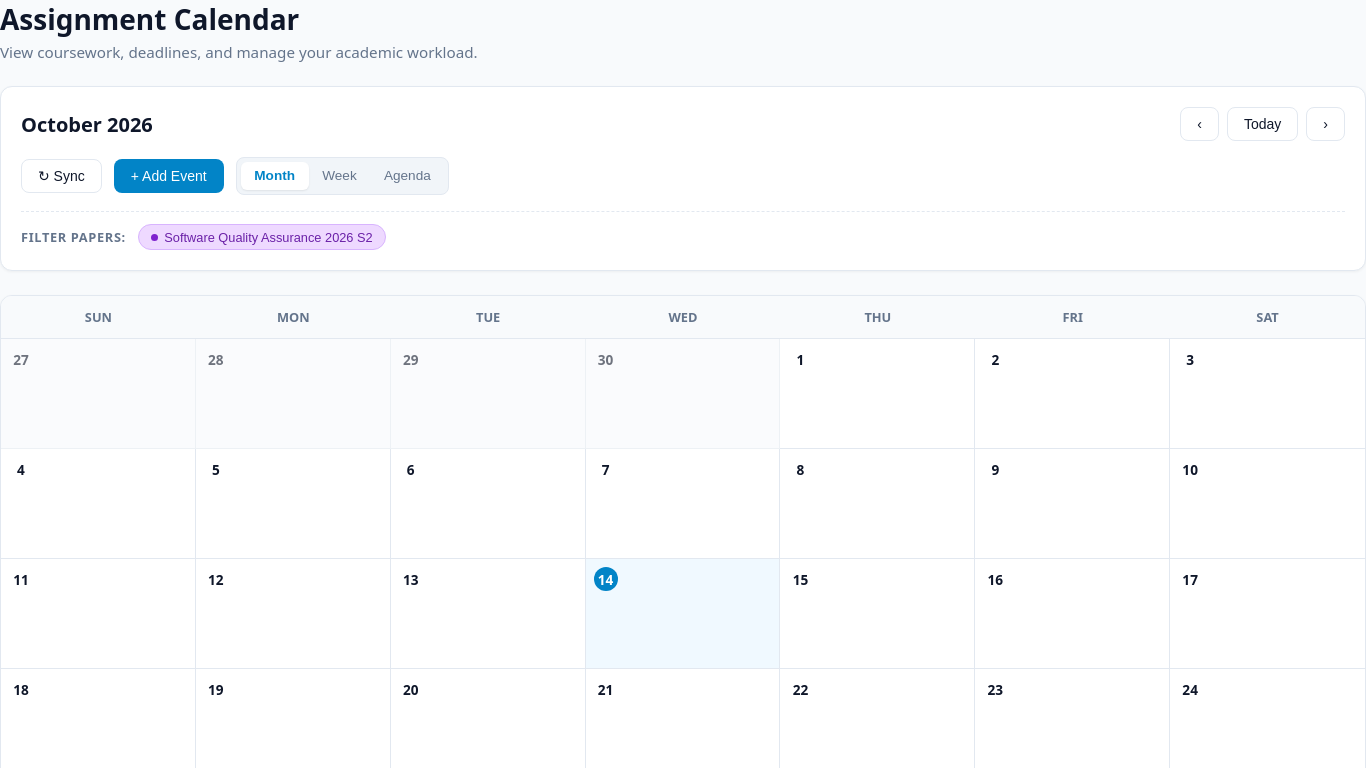
Test: Calendar - views (FR-04) › TC-12: opens the assignment detail modal with Canvas details when an event is clicked
Click the button "Agenda": (407, 176) x1=370 y1=162 x2=444 y2=190
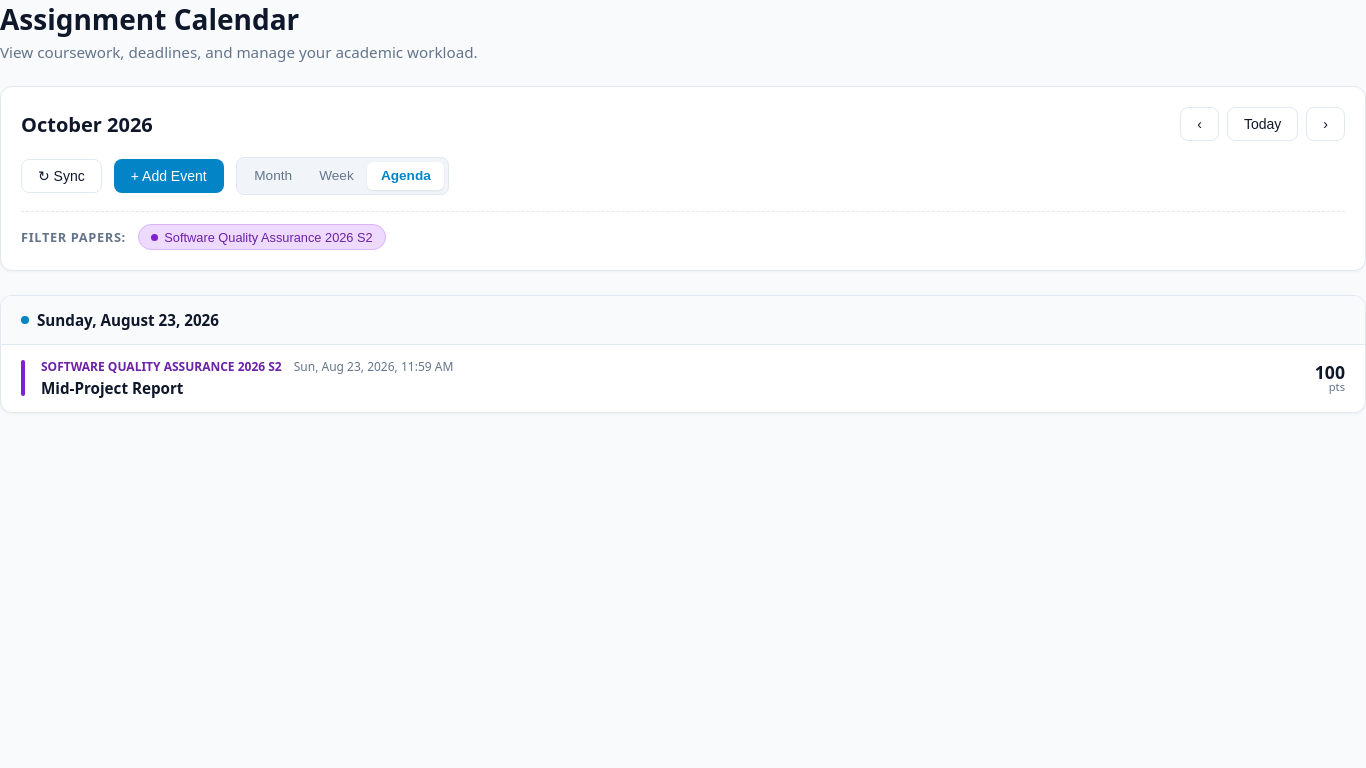
Click the heading "Mid-Project Report": (112, 388) x1=41 y1=378 x2=184 y2=398
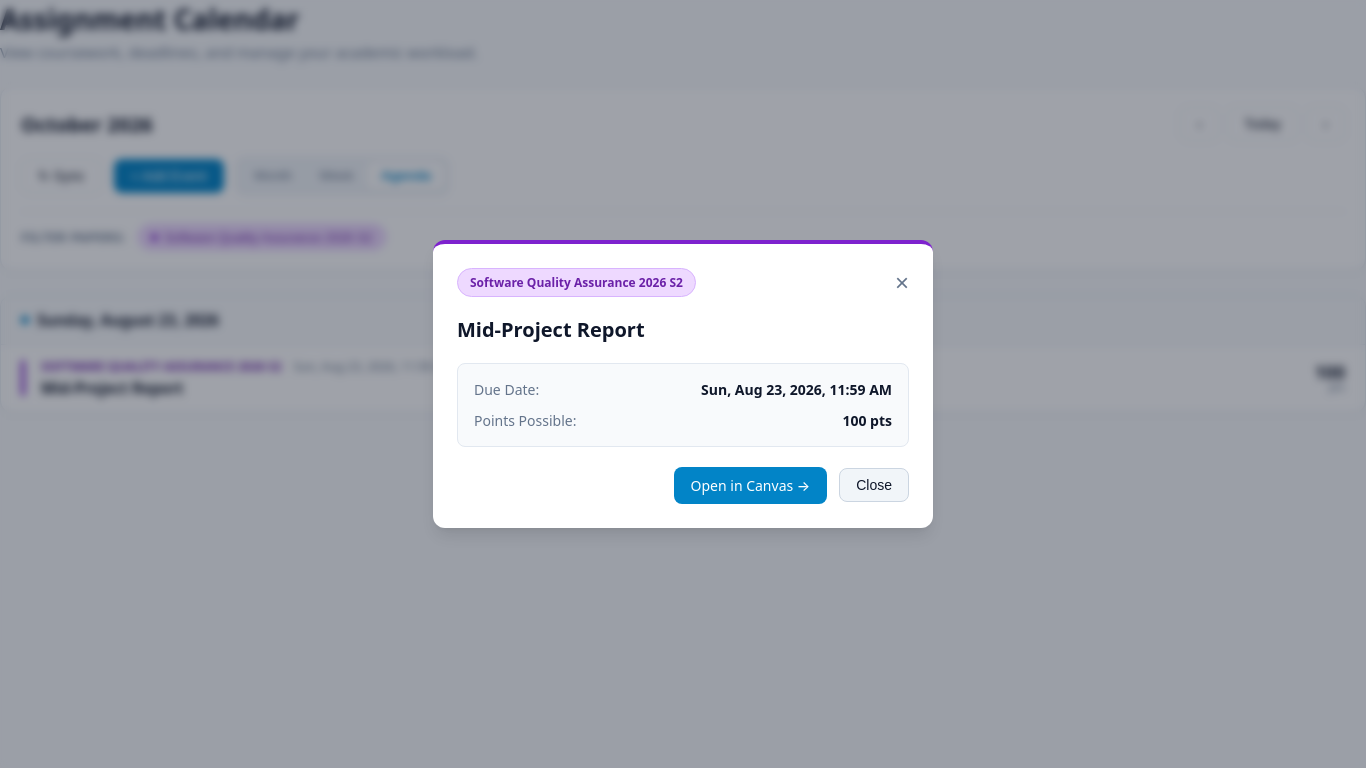
Result: the text "Software Quality Assurance 2026 S2" is shown at x1=470 y1=274 x2=683 y2=291
Result: the text "100 pts" is shown at x1=842 y1=411 x2=892 y2=430
Click the button "Close": (874, 485) x1=839 y1=468 x2=909 y2=502
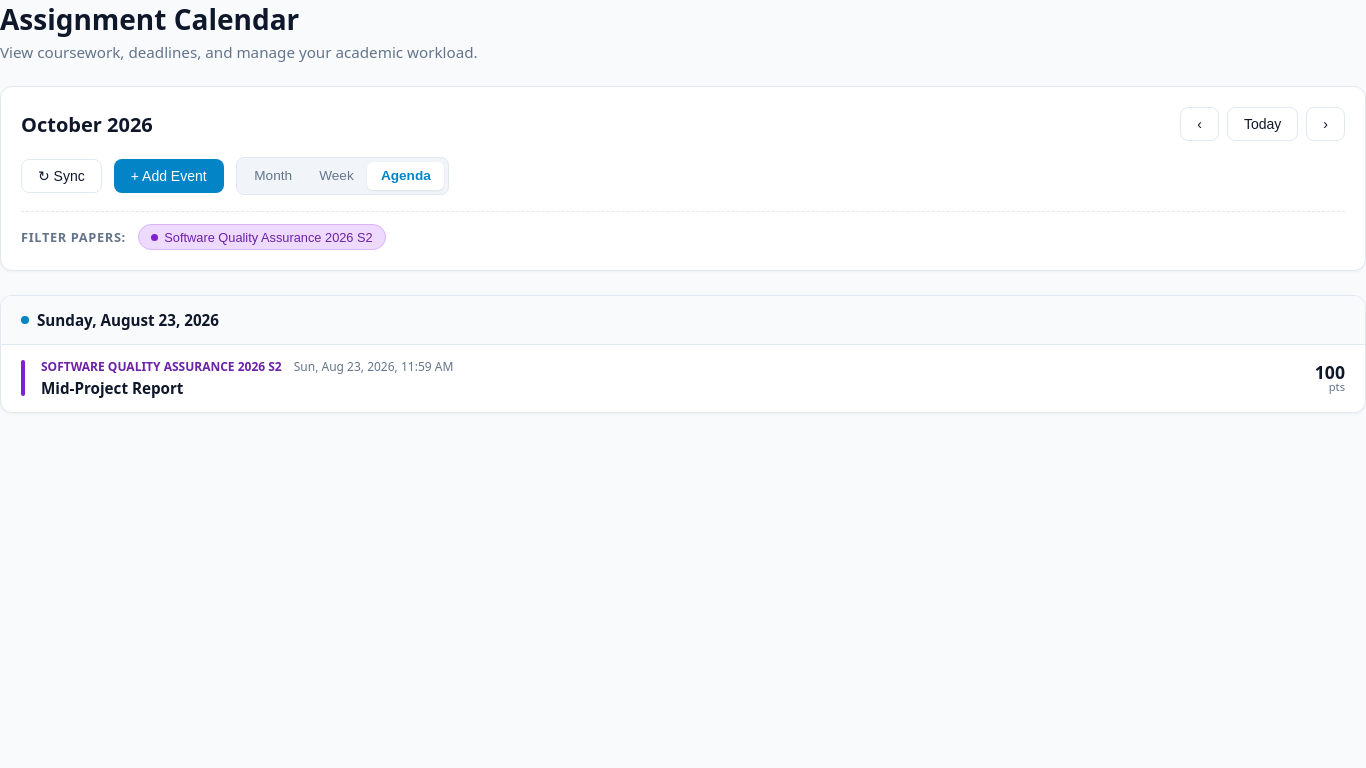
Result: the dialog is gone
